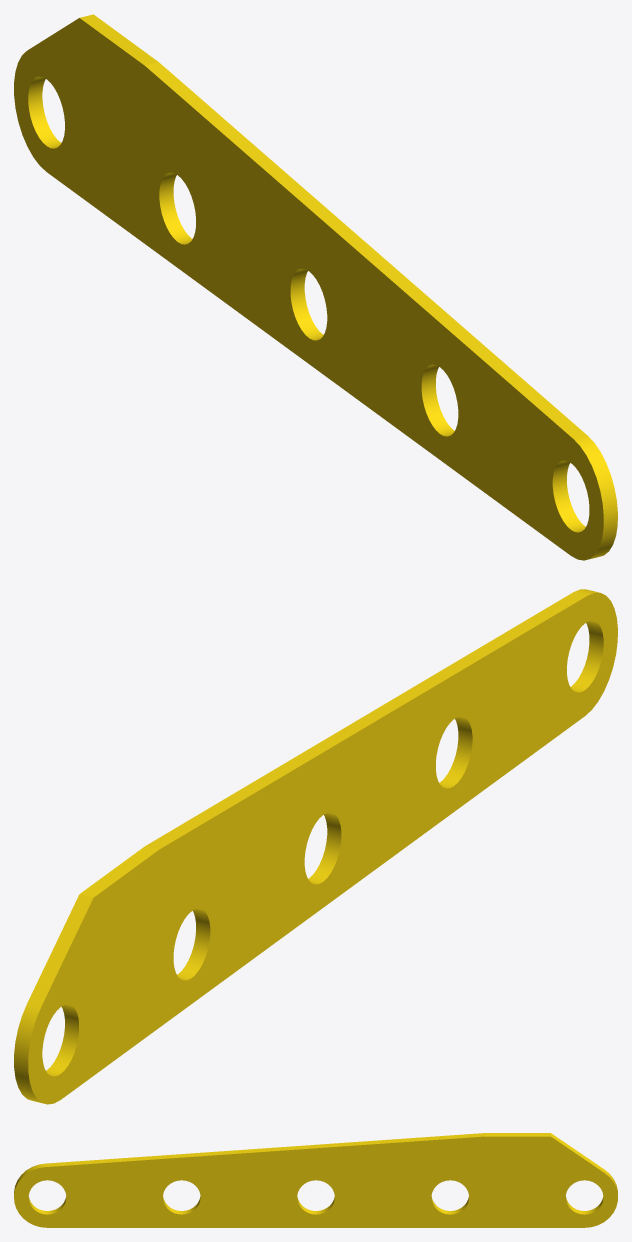
File: 1323 - manipulatorRoller.gltf
3 renders of one model, top to bottom at view 1: azimuth 30°, elevation 25°; view 2: azimuth 150°, elevation 25°; view 3: azimuth 270°, elevation 25°, orthographic. The views are drawn at different scales.
Parts seen in each view (by area): view 1: manipulatorRoller; view 2: manipulatorRoller; view 3: manipulatorRoller.
Part boxes in pixels (bbox=[...]): manipulatorRoller: bbox=[14, 14, 617, 560]; manipulatorRoller: bbox=[14, 589, 617, 1104]; manipulatorRoller: bbox=[14, 1133, 617, 1227].
Bounding box in the file's own units: 0.00635 × 0.0762 × 0.457.
